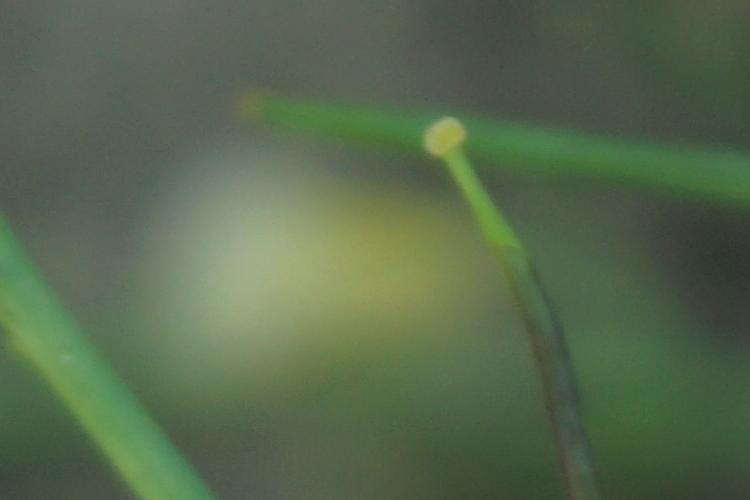pod: (406, 118, 636, 500)
